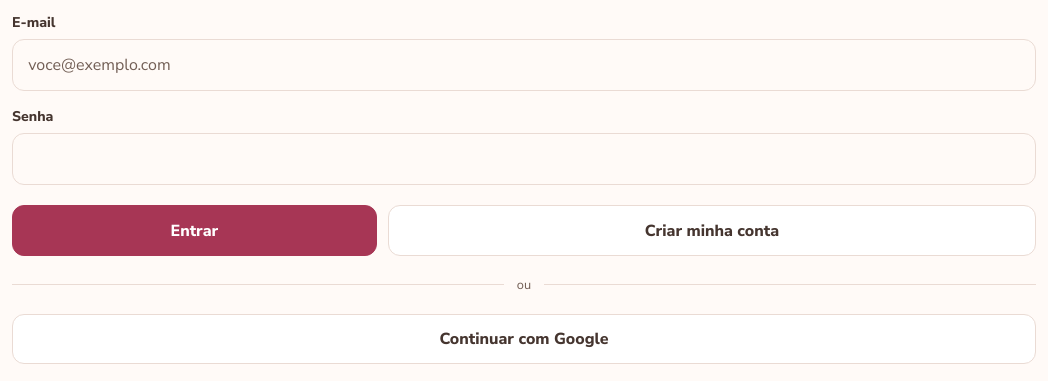
Test: AuthForm › announces a pending credential submission
The width and height of the screenshot is (1048, 381).
Type "lu@example.com" into the field labelled "E-mail" at (524, 65), box [12,39,1036,91]
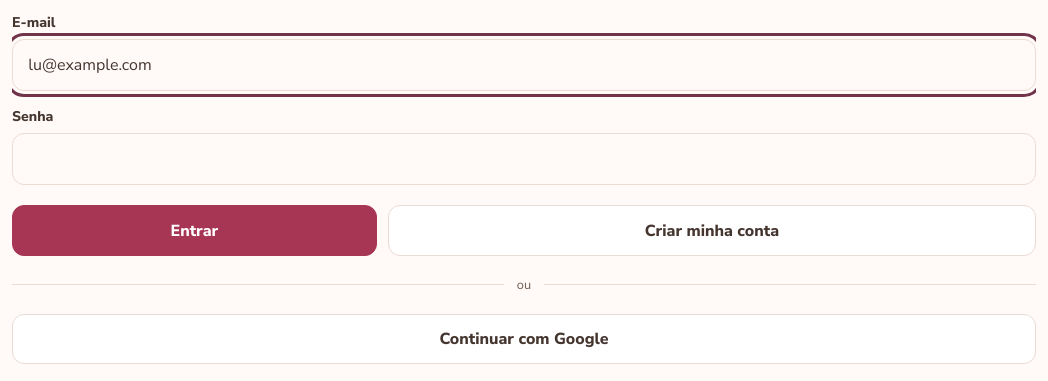
Type "12345678" into the password field labelled "Senha" at (524, 159), box [12,133,1036,185]
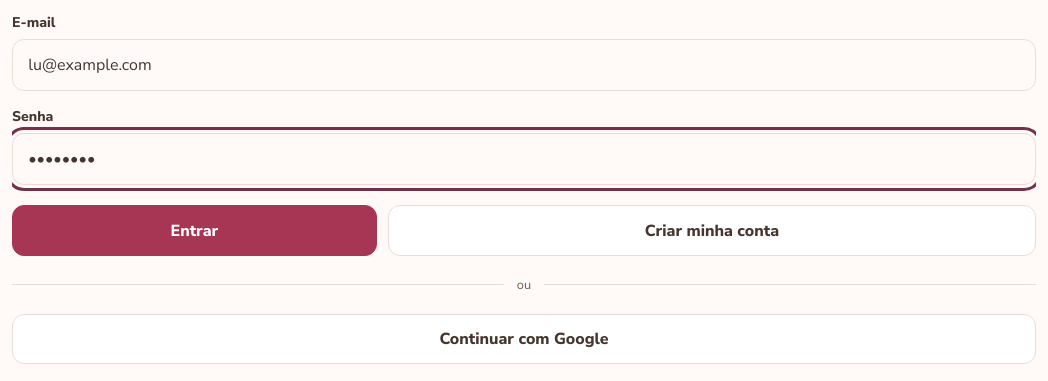
Click the button "Entrar" at (194, 231), box [12,205,377,256]
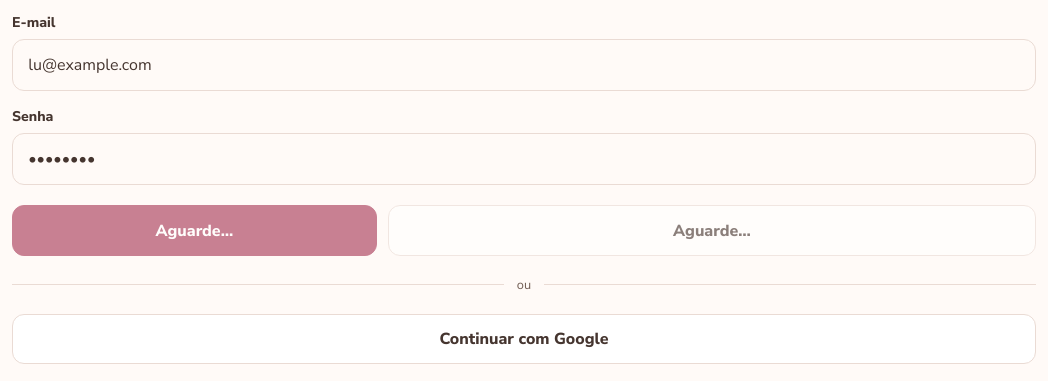
Now the button named "Entrar" is disabled, box [12,205,377,256]
Now the button named "Criar minha conta" is disabled, box [388,205,1036,256]
